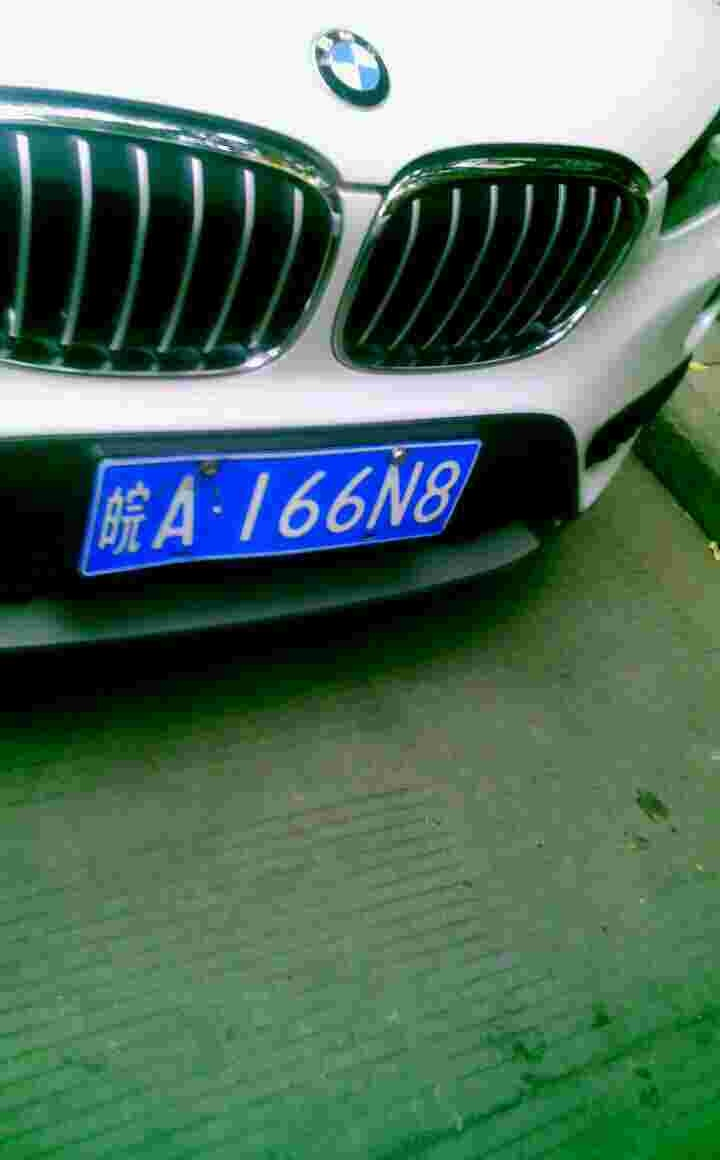license_plate: (78, 433, 469, 572)
